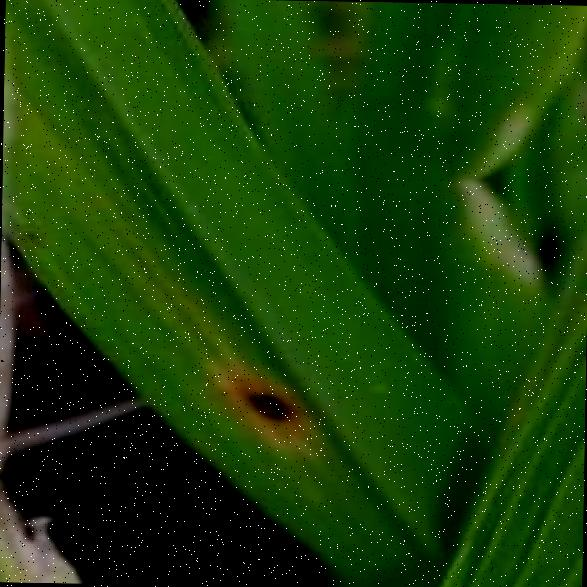Brown_Spot: (218, 372, 310, 431)
